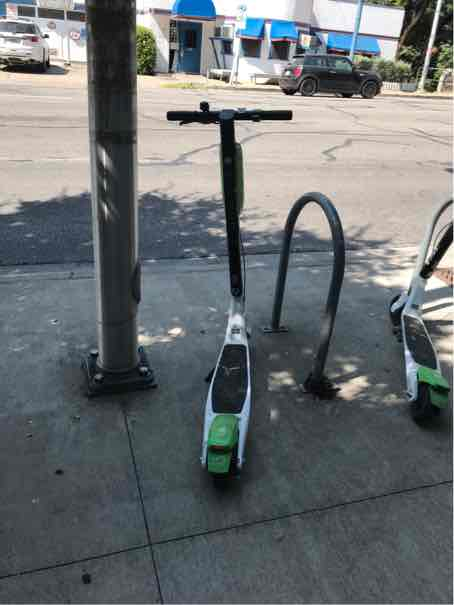scooter: (162, 97, 297, 488)
